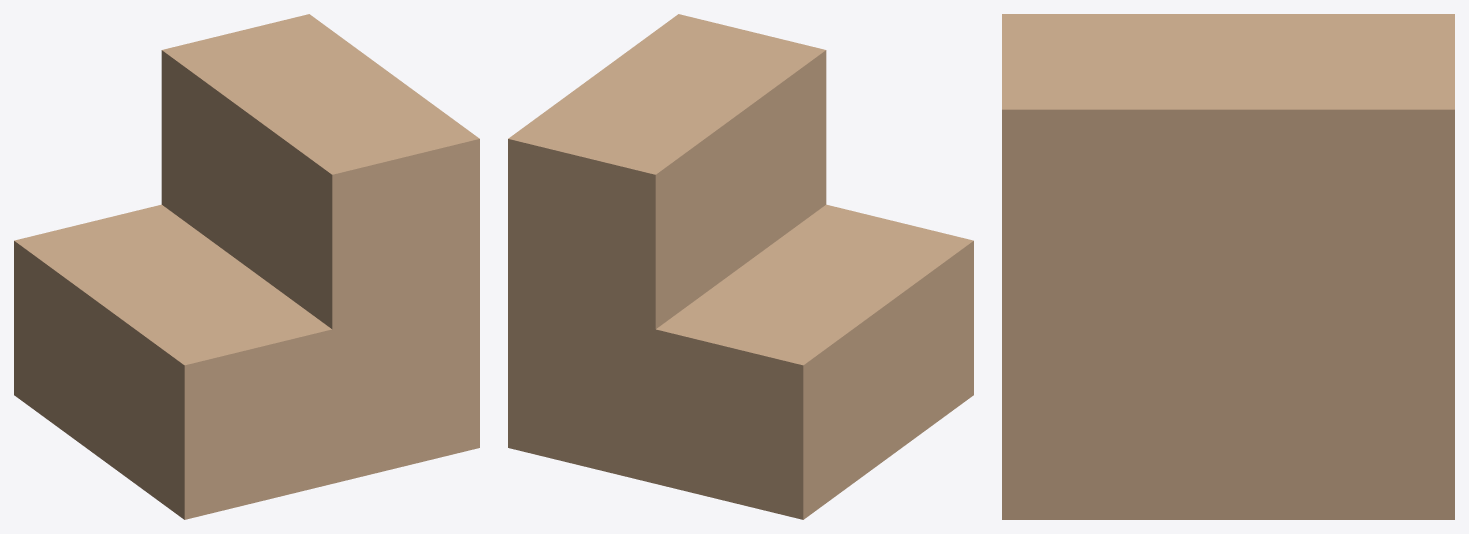
The model's file is Hand3.fbx.
3 renders of one model, left to right at view 1: azimuth 30°, elevation 25°; view 2: azimuth 150°, elevation 25°; view 3: azimuth 270°, elevation 25°, orthographic. The views are drawn at different scales.
Visible parts, largest first — view 1: Untitled.001; view 2: Untitled.001; view 3: Untitled.001.
Boxes of the visible parts, x1,y1,x2,y2 form: Untitled.001: [14, 14, 479, 519]; Untitled.001: [508, 14, 973, 519]; Untitled.001: [1002, 14, 1454, 519].
Bounding box in the file's own units: 20 × 20 × 20.
